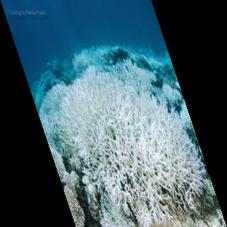bleached_corals: (26, 29, 226, 227)
